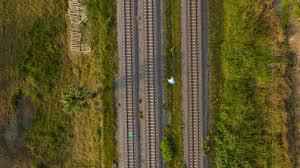Dust_screen: (129, 130, 133, 139)
Plastic: (167, 77, 176, 84)
